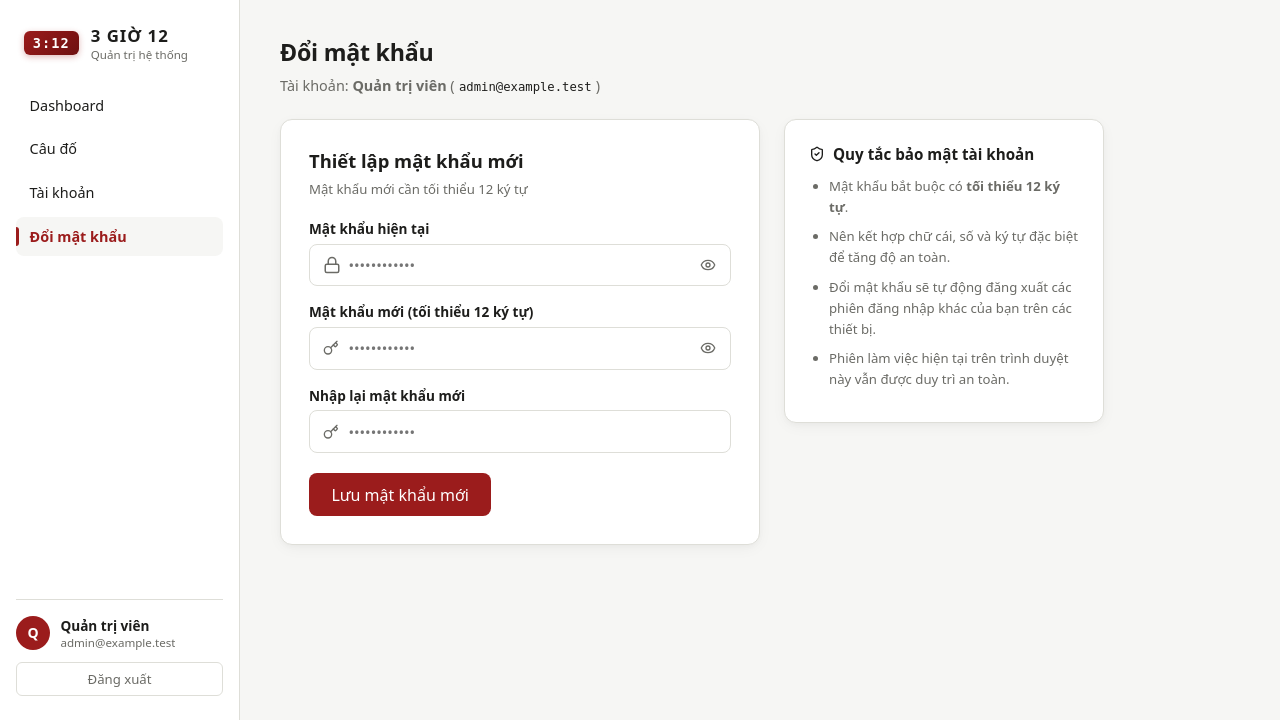
it: ProfilePage: displays server error when current password is wrong
expect the heading "Đổi mật khẩu" is shown: met, box [280, 36, 434, 68]
In the password field labelled "Mật khẩu hiện tại": (520, 265) [309, 244, 731, 286], type "matkhausai12345"
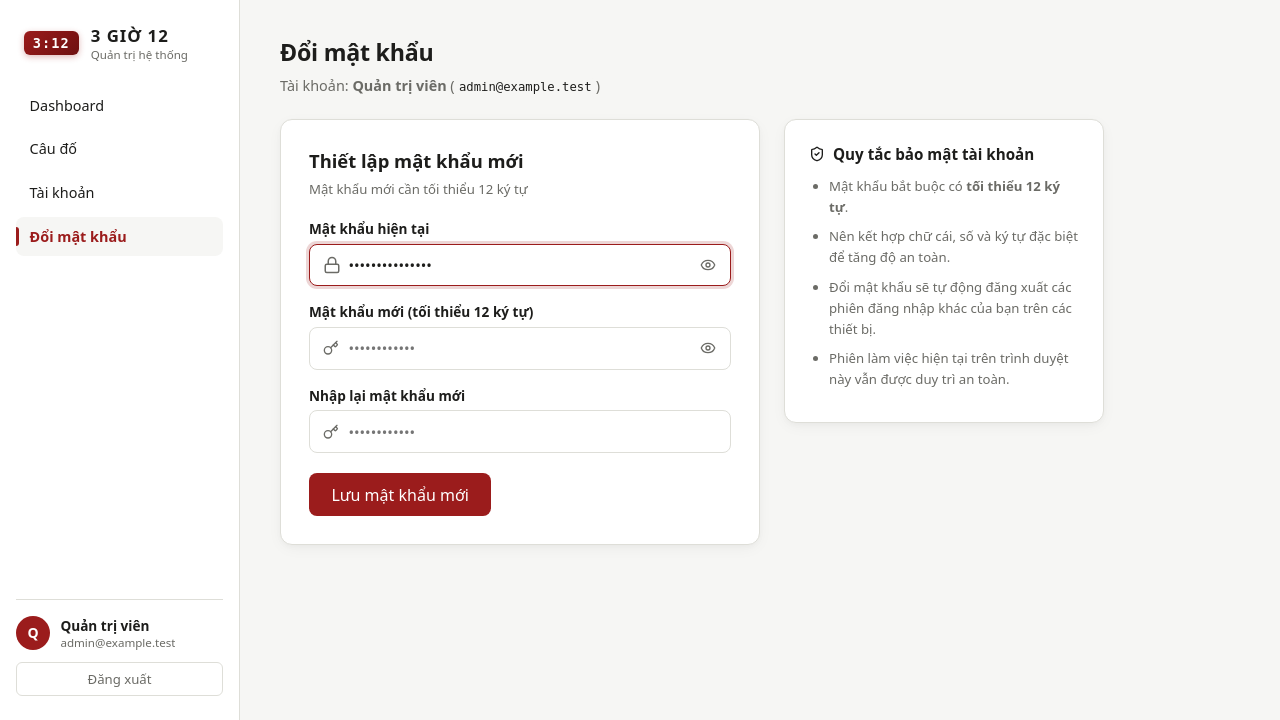
In the password field labelled "Mật khẩu mới (tối thiểu 12 ký tự)": (520, 348) [309, 327, 731, 370], type "matkhaumoi12345"
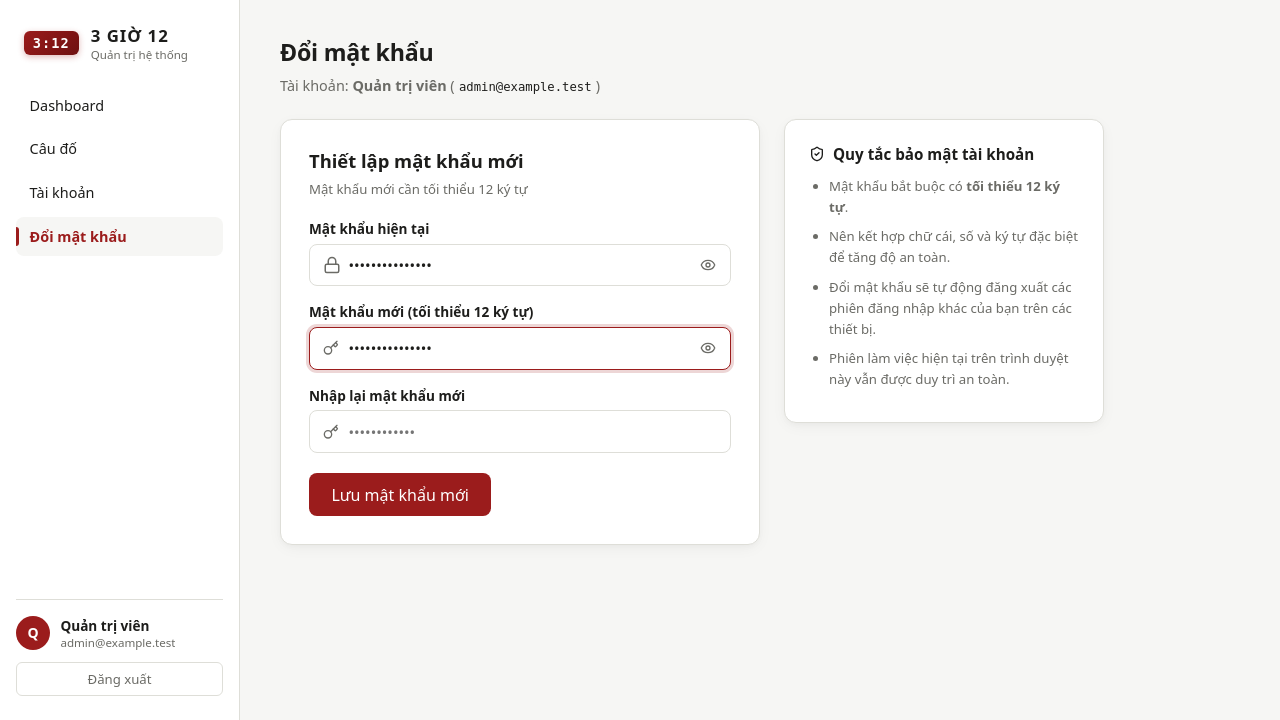
In the password field labelled "Nhập lại mật khẩu mới": (520, 432) [309, 410, 731, 453], type "matkhaumoi12345"
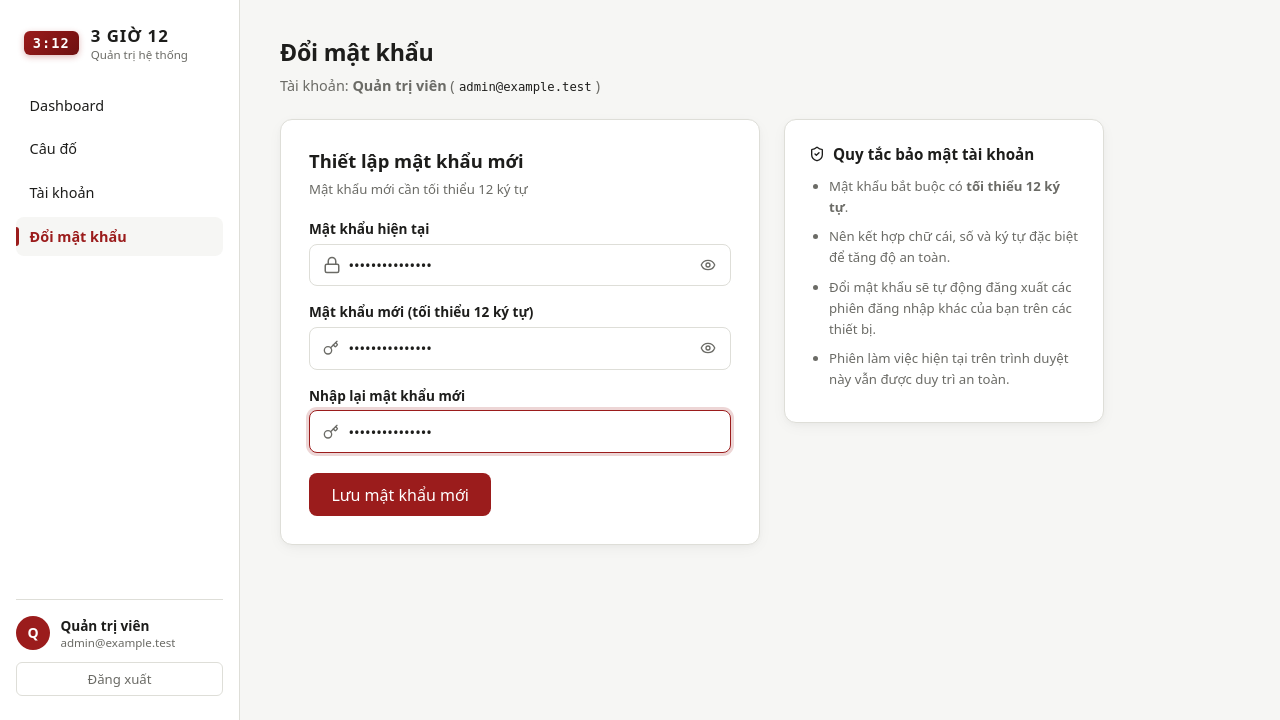
Click the button "Lưu mật khẩu mới": (400, 494) [309, 473, 491, 516]
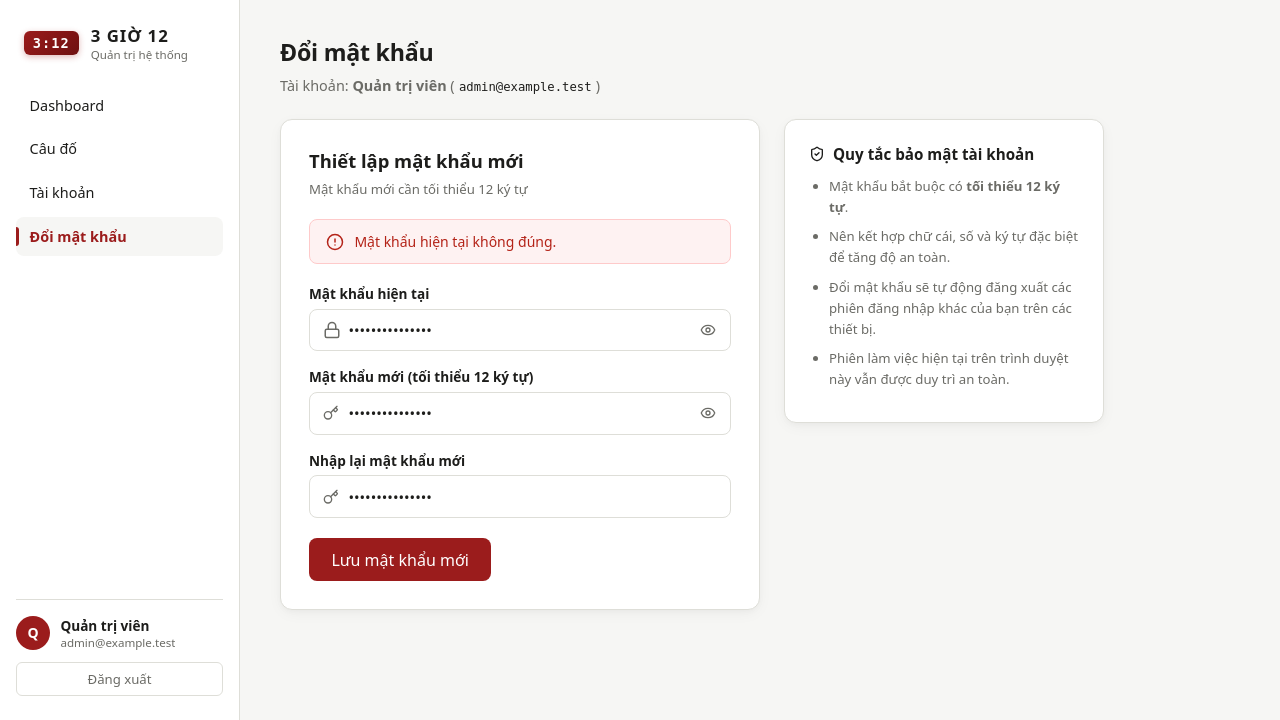
expect the message reads "Mật khẩu hiện tại không đúng.": met, box [354, 232, 556, 251]
